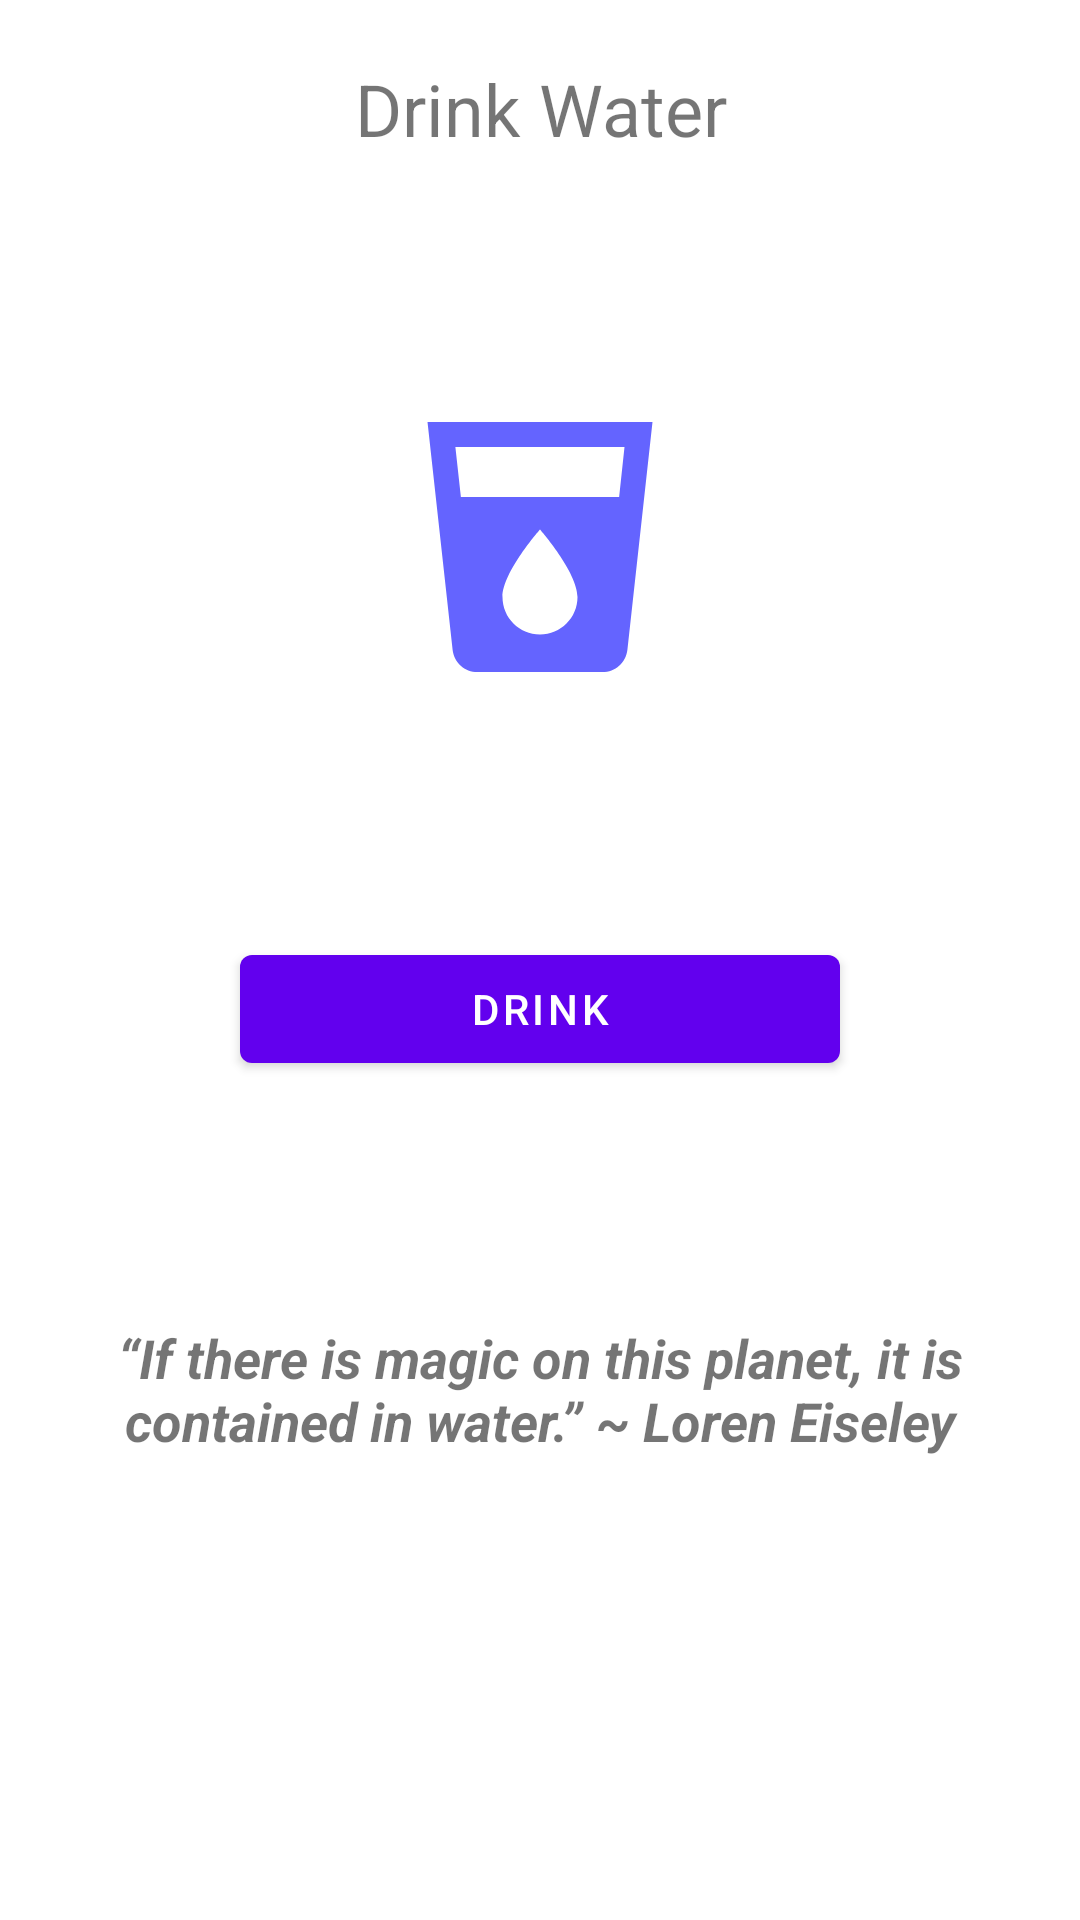

Where icons sit on this 1080 x 1920 app screen, as [x1, y1, x2, y2]:
local drink: [427, 422, 653, 672]
